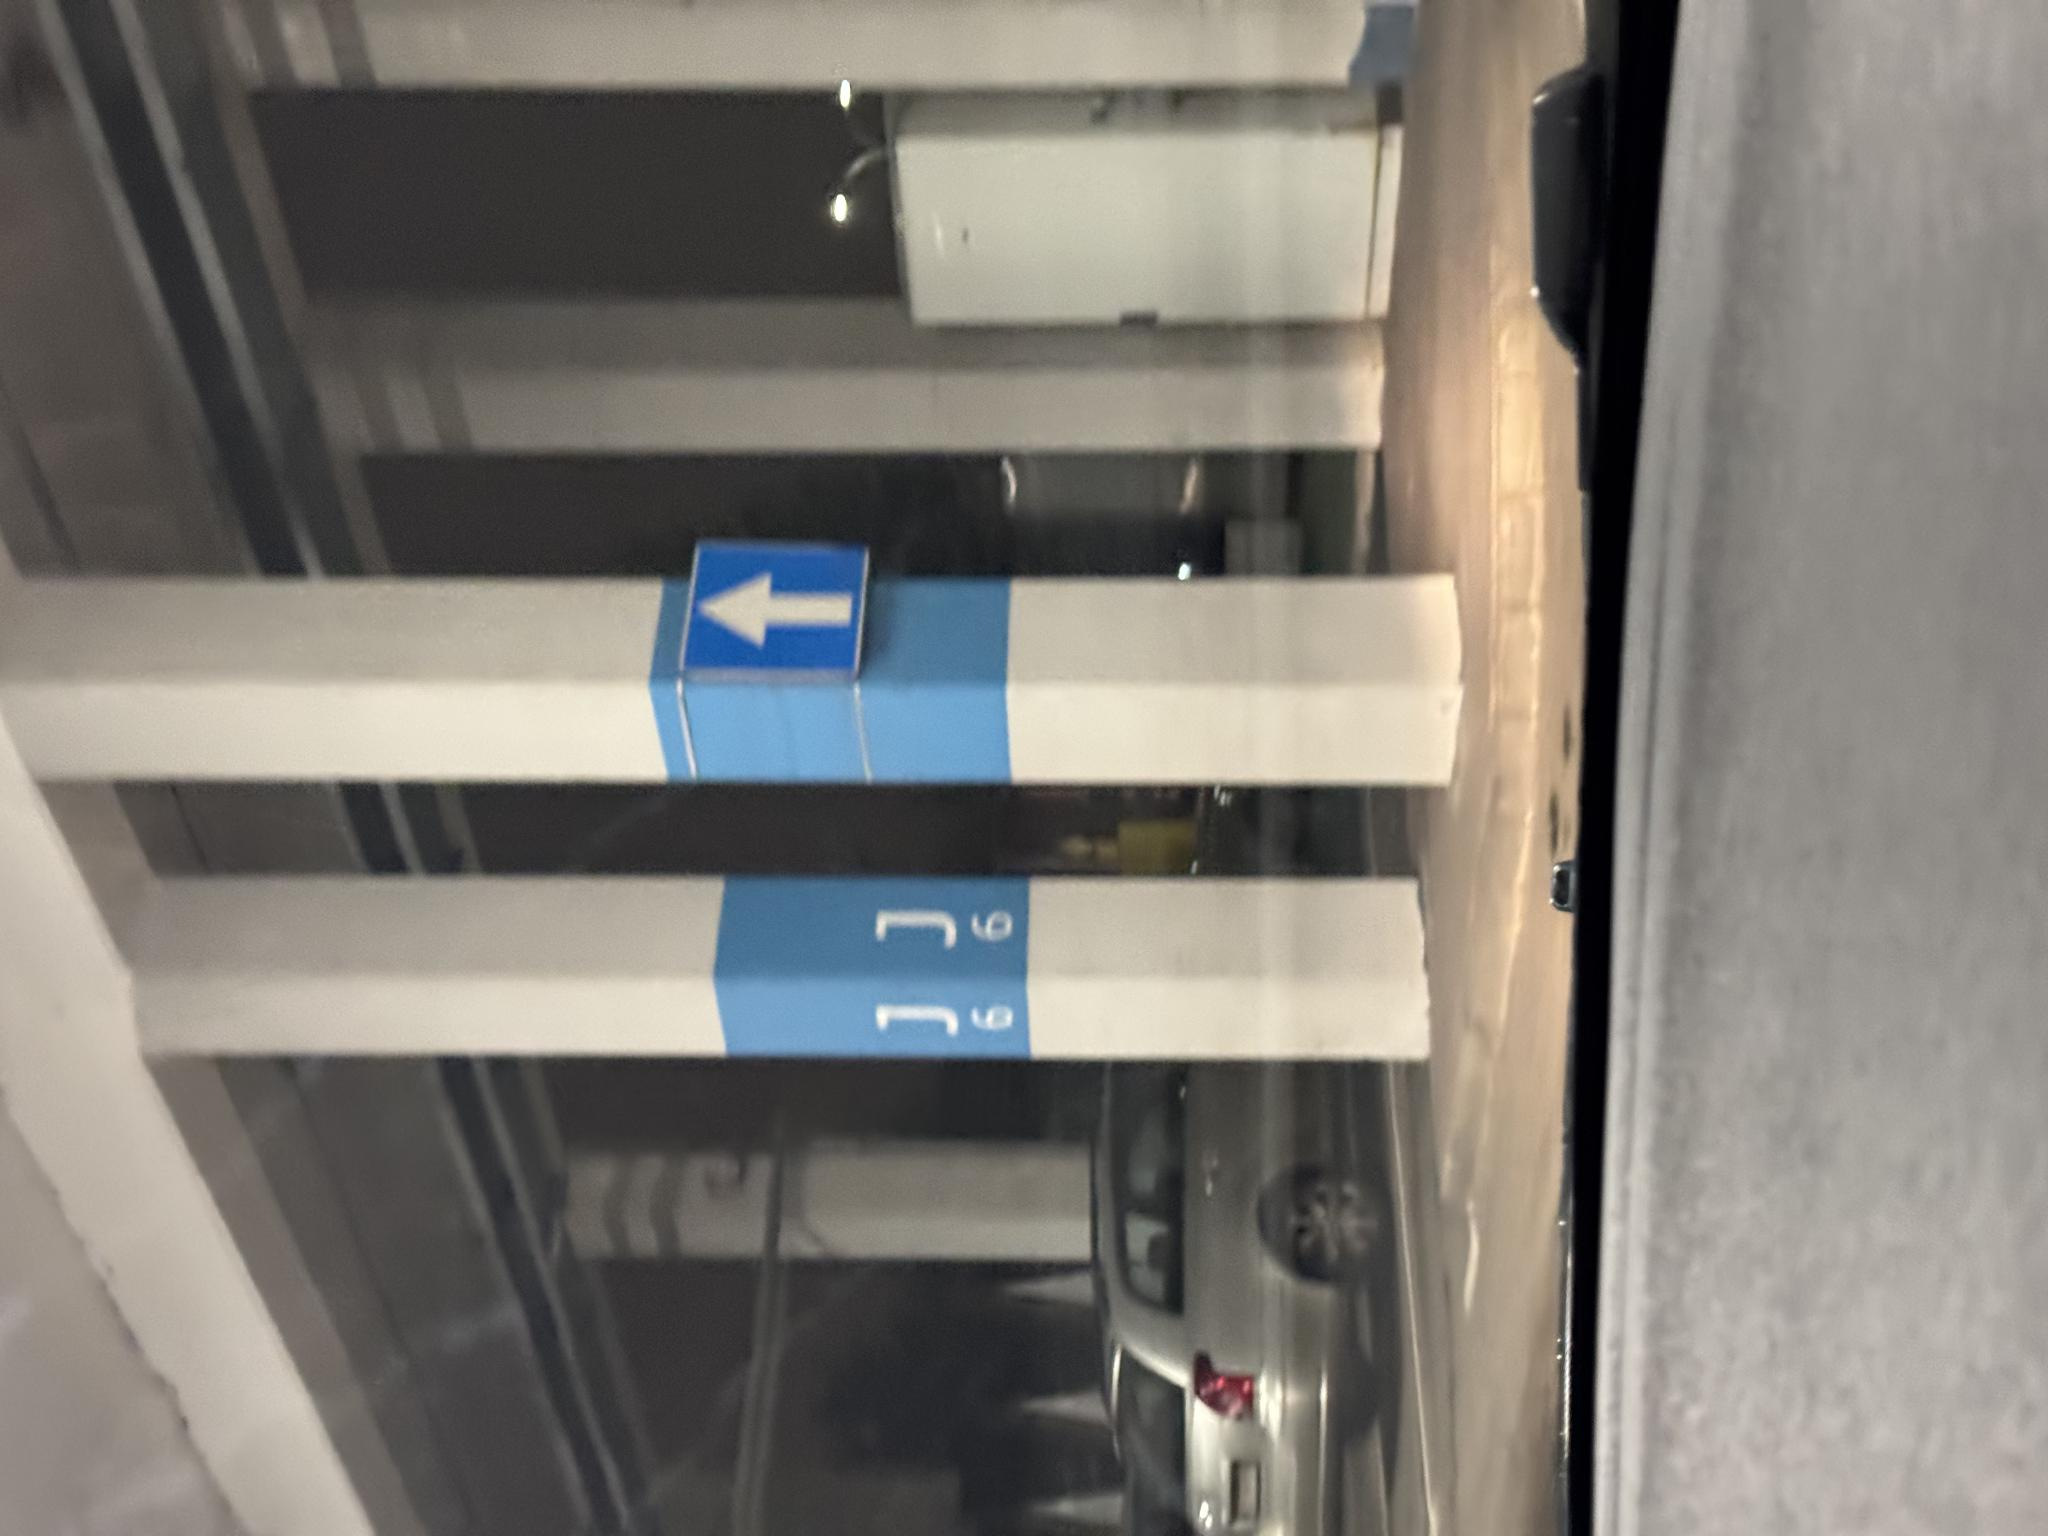information: (855, 673, 1008, 876)
